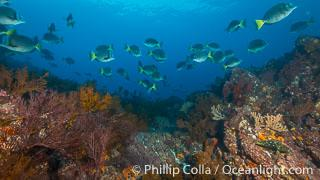Acanthuridae -Surgeonfishes-: (252, 0, 296, 27), (3, 33, 42, 54), (226, 17, 251, 37), (123, 40, 143, 59)
